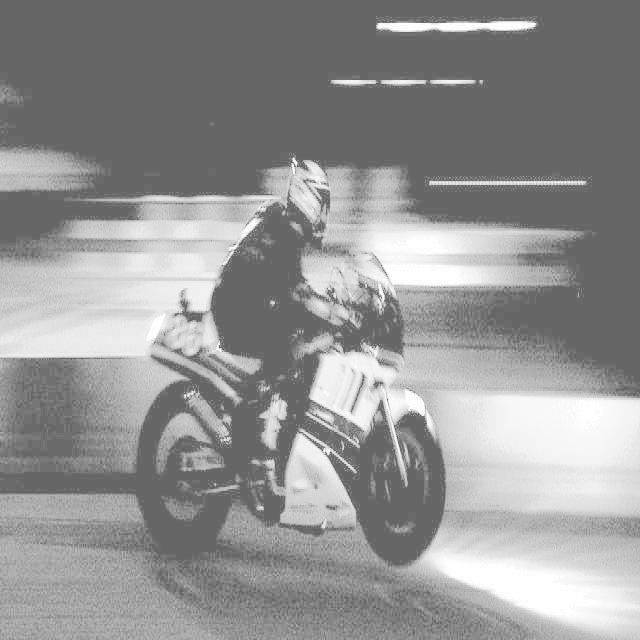Motorcycle: (138, 259, 451, 596)
Person: (206, 154, 338, 433)
